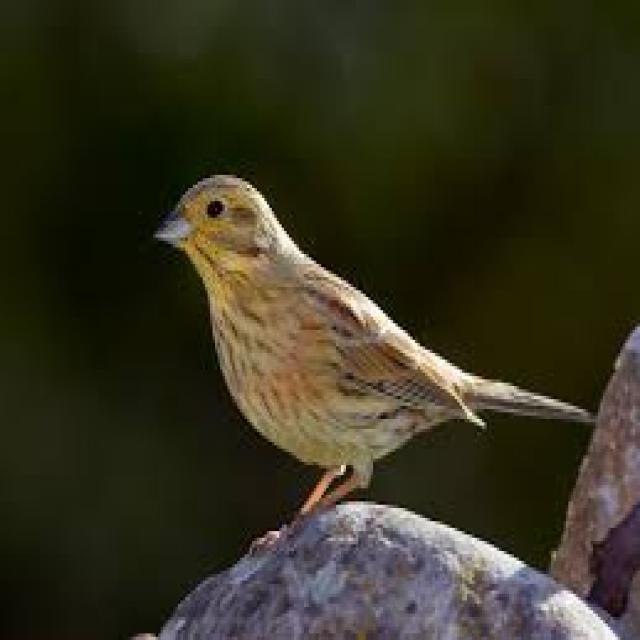bird: (142, 116, 639, 604)
